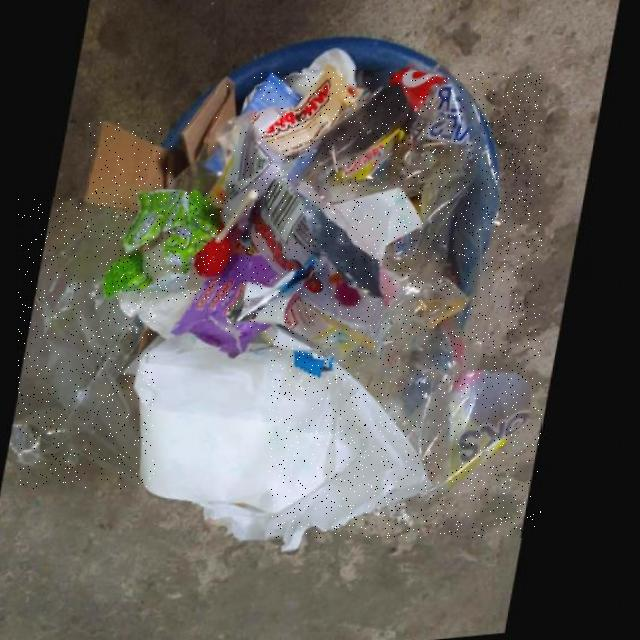paper: (142, 336, 444, 559), (90, 122, 172, 210), (184, 81, 239, 167)
plastic: (270, 73, 542, 538), (19, 196, 155, 489)
wrapper: (225, 131, 393, 334), (110, 192, 229, 301), (254, 70, 367, 162)
